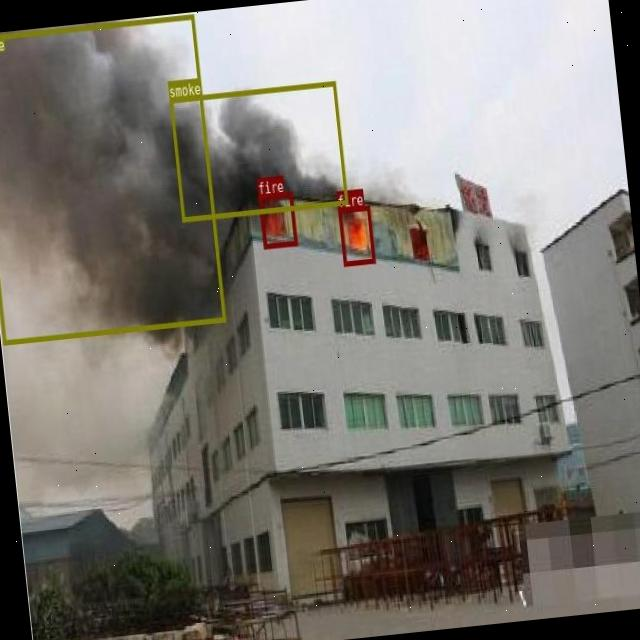fire: (338, 205, 376, 265), (258, 192, 297, 248)
smoke: (0, 12, 224, 344), (169, 80, 348, 221)
